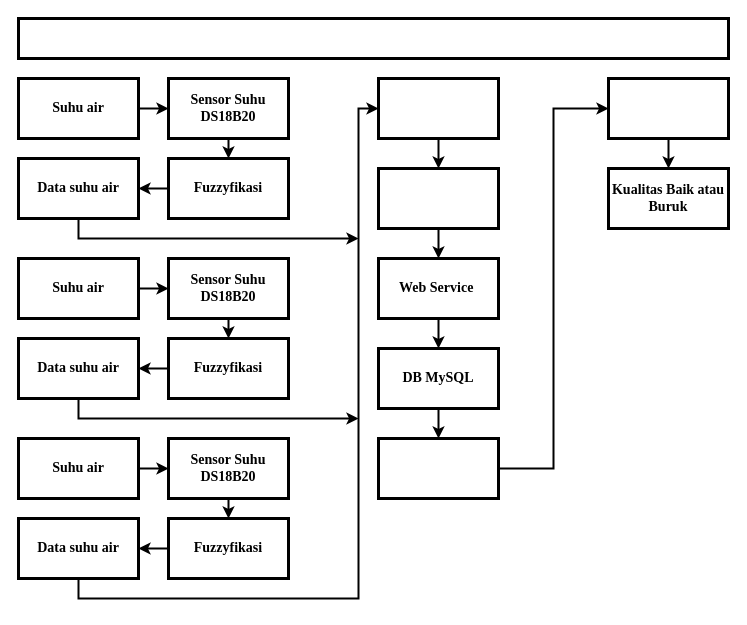
The diagram is 747 pixels wide and 625 high, and some of its shapes have lost their labels. Each missing label, with the centre of its shape:
Arduino Uno: the point at 438,108
INPUT PROSES OUTPUT: the point at 373,38
Monitoring Kualitas Air pada Kolam Udang: the point at 668,108
Sistem Identifikasi Kualitas Air: the point at 438,468
Wemos D1 Mini ESP8266: the point at 438,198
